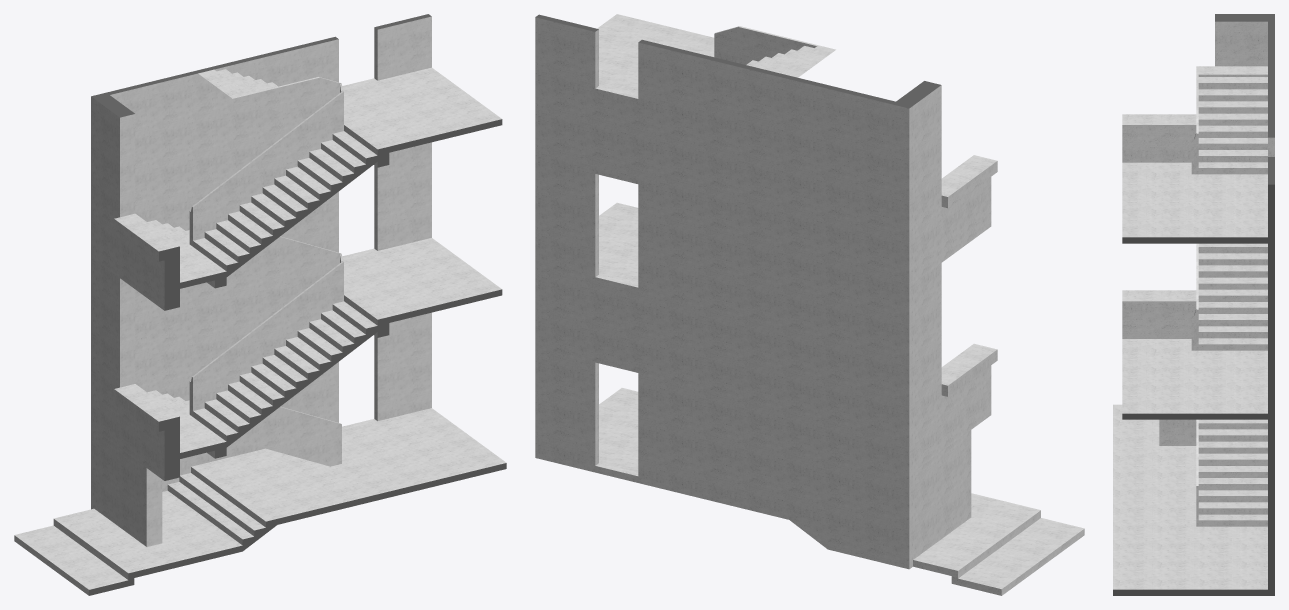
Rendered from bottom-landing-entrance-combined.glb.
3 renders of one model, left to right at view 1: azimuth 30°, elevation 25°; view 2: azimuth 150°, elevation 25°; view 3: azimuth 270°, elevation 25°, orthographic. The views are drawn at different scales.
Parts seen in each view (by area): view 1: 底层中间平台下作出入口的处理方式-底层长短; view 2: 底层中间平台下作出入口的处理方式-底层长短; view 3: 底层中间平台下作出入口的处理方式-底层长短.
Part boxes in pixels (box(x1,y1,x2,y2)): 底层中间平台下作出入口的处理方式-底层长短: box(14, 14, 506, 595); 底层中间平台下作出入口的处理方式-底层长短: box(535, 14, 1084, 595); 底层中间平台下作出入口的处理方式-底层长短: box(1113, 14, 1274, 595).
Bounding box in the file's own units: 10.78 × 10.43 × 3.5.
Materials: 2 (1 with a texture image).
